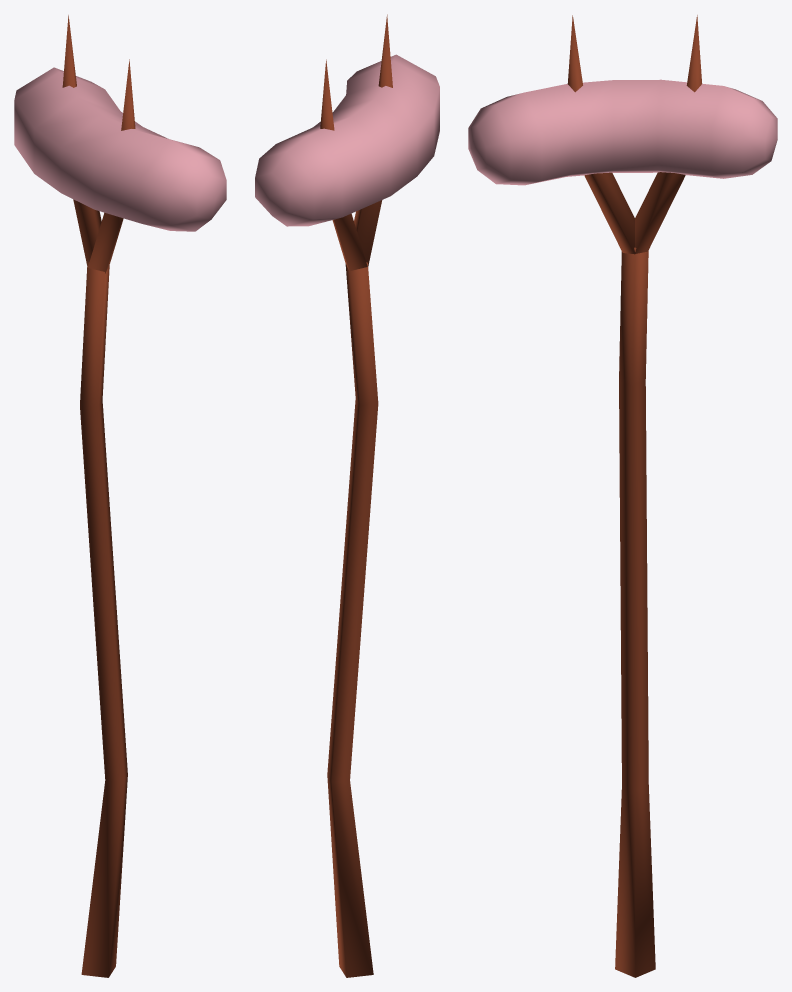
Rendered from Sausage.fbx.
3 renders of one model, left to right at view 1: azimuth 30°, elevation 25°; view 2: azimuth 150°, elevation 25°; view 3: azimuth 270°, elevation 25°, orthographic. The views are drawn at different scales.
Parts seen in each view (by area): view 1: Cylinder.001; view 2: Cylinder.001; view 3: Cylinder.001.
Part boxes in pixels (x1,y1,x2,y2): Cylinder.001: (14, 15, 226, 977); Cylinder.001: (255, 14, 439, 977); Cylinder.001: (468, 15, 777, 977).
Bounding box in the file's own units: 67.86 × 550 × 162.
